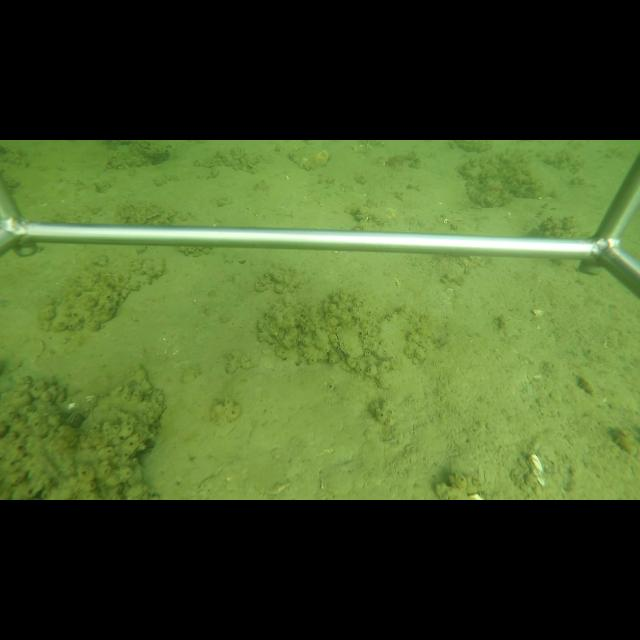Oyster-Open: (333, 325, 364, 361)
